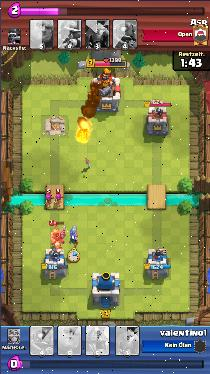EArcher: (45, 189, 54, 209), (54, 189, 63, 209)
EFireball: (75, 117, 92, 146)
EKingTower: (91, 68, 119, 111)
EPrince: (51, 225, 64, 249)
EnemyPrincessTower: (146, 104, 167, 134)
OMusk: (69, 224, 78, 245)
OwnKingTower: (93, 273, 118, 305)
OwnPrincessTower: (144, 247, 170, 276), (41, 249, 67, 278)
TowerDown: (42, 116, 65, 134)
